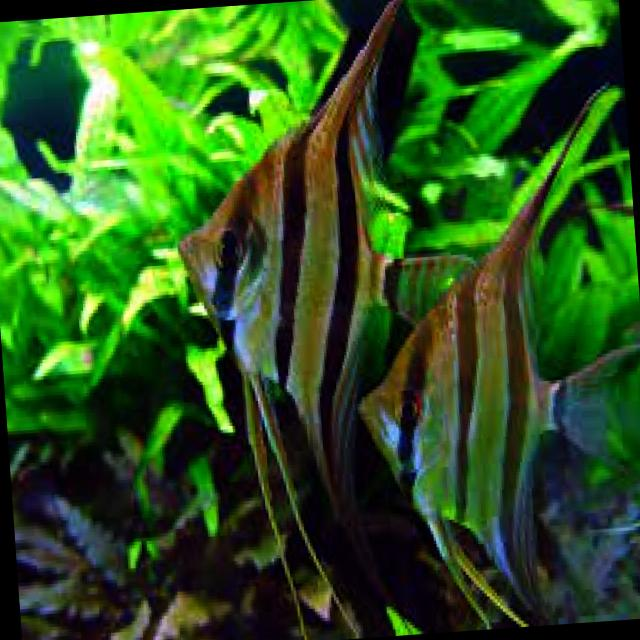AngelFish: (163, 0, 505, 640), (329, 79, 640, 637)
